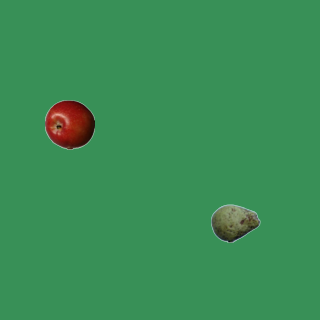Apple Braeburn: (44, 99, 94, 149)
Pear Stone: (210, 198, 260, 248)
